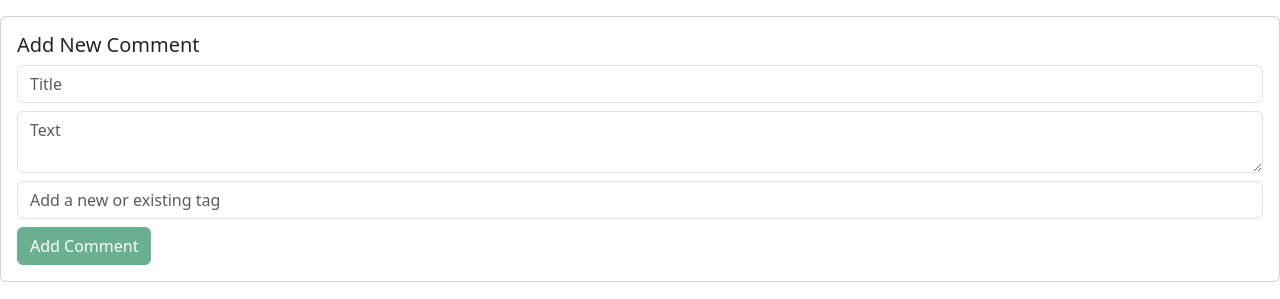
CommentForm Component › disables the Add Comment button if title or text is empty
Check: the button "Add Comment" is disabled, box top-left (17, 227), bottom-right (152, 265)
Type "New Comment" into the field with placeholder "Title" at (640, 84), box top-left (17, 65), bottom-right (1263, 103)
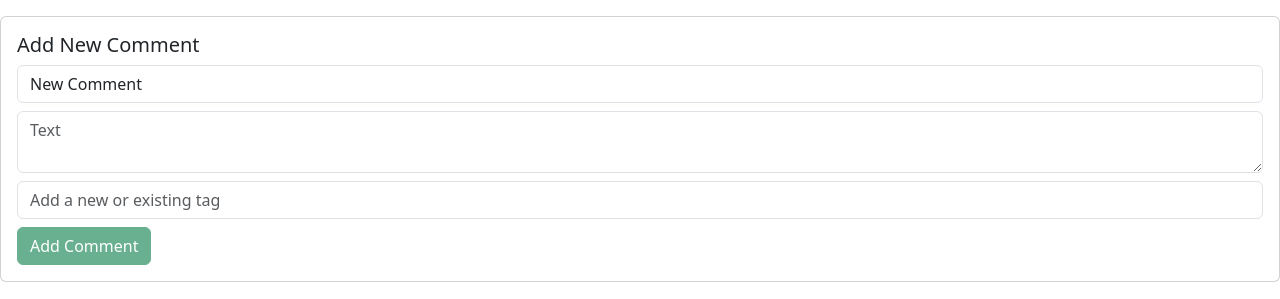
Check: the button "Add Comment" is disabled, box top-left (17, 227), bottom-right (152, 265)
Type "This is a test comment." into the text box with placeholder "Text" at (640, 142), box top-left (17, 111), bottom-right (1263, 173)
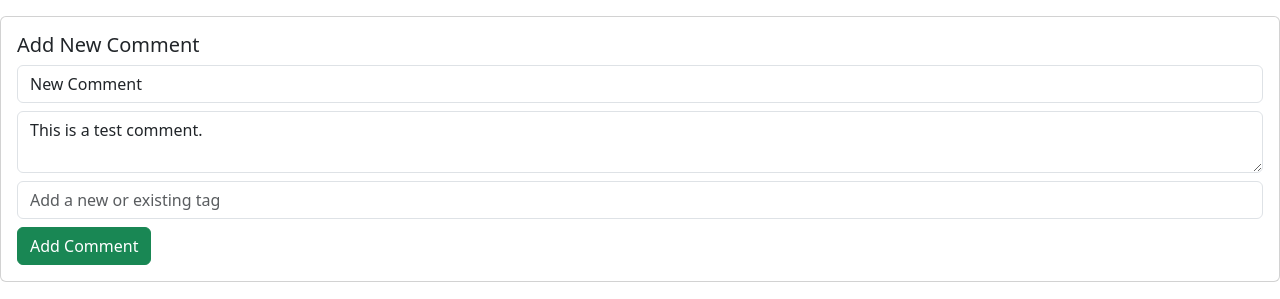
Check: the button "Add Comment" is enabled, box top-left (17, 227), bottom-right (152, 265)
